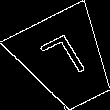L_SE: (38, 31, 94, 90)
